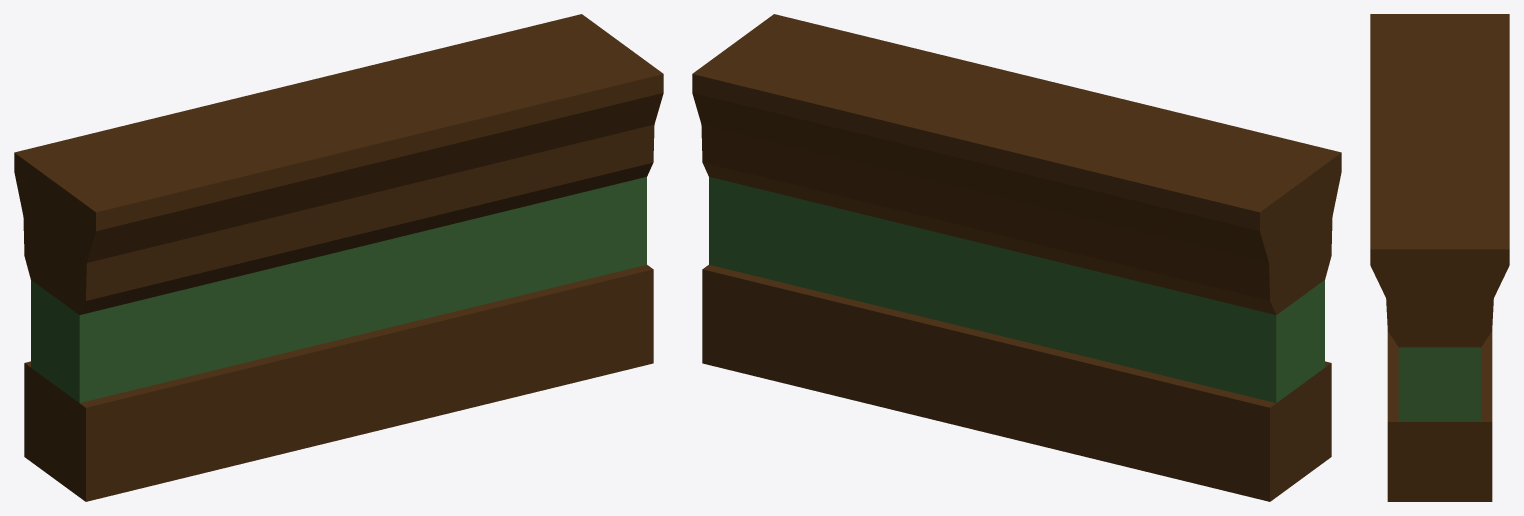
File: topWall_GEO.fbx
The picture shows the model from 3 angles, left to right: view 1: azimuth 30°, elevation 25°; view 2: azimuth 150°, elevation 25°; view 3: azimuth 270°, elevation 25°; orthographic projection. The views are drawn at different scales.
Visible parts, largest first — view 1: topFrame; view 2: topFrame; view 3: topFrame.
Boxes of the visible parts, x1,y1,x2,y2 form: topFrame: [14, 14, 663, 501]; topFrame: [692, 14, 1341, 501]; topFrame: [1370, 14, 1509, 501].
Bounding box in the file's own units: 200 × 100 × 50.
